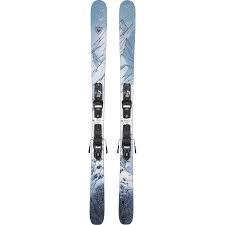skis: (88, 1, 138, 225)
